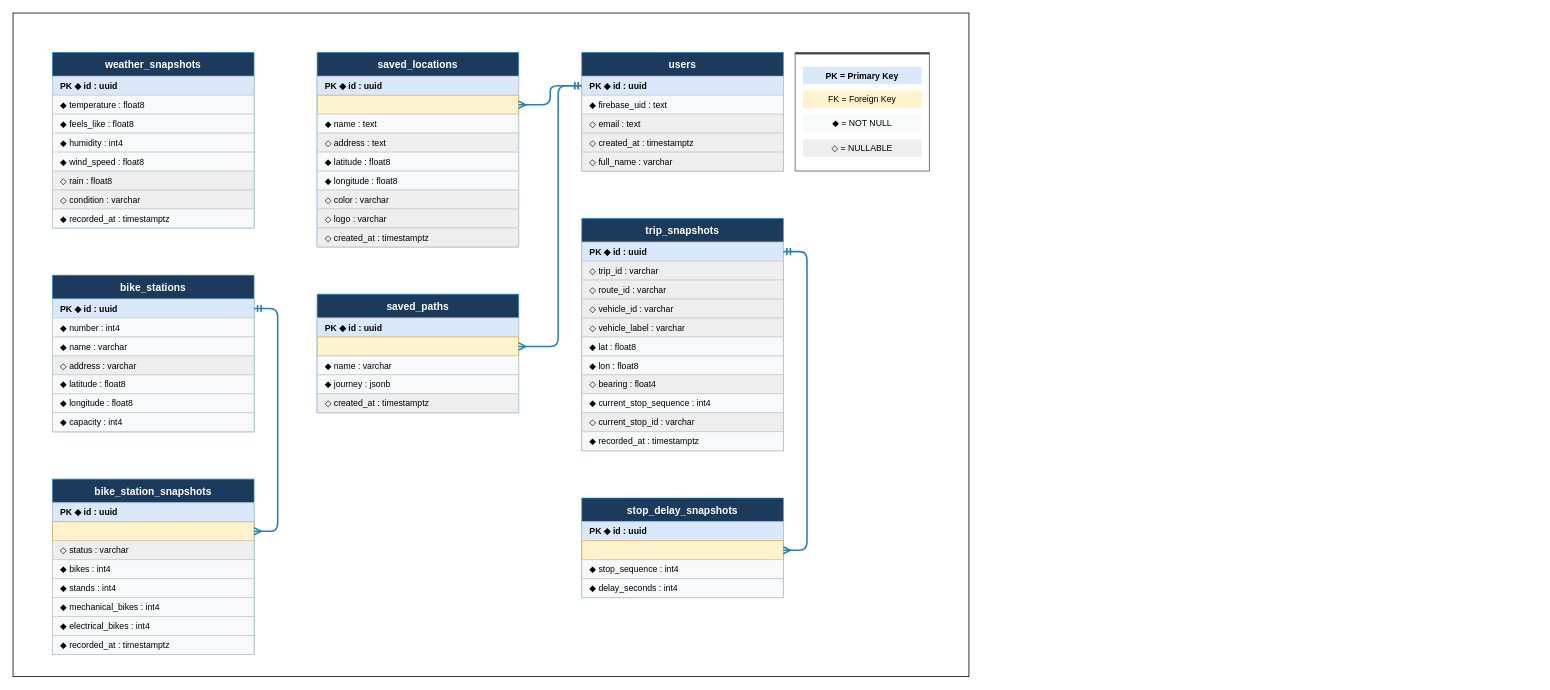
Some shapes in this 1550 by 690 pixel diagram are drawn without their labels. The shapes that lost their labels are listed below. From the top down, each one's centre as x and y in pixels, then its label:
At pixel 417 104: "FK ◇ user_id : uuid".
At pixel 417 346: "FK ◆ user_id : uuid".
At pixel 153 531: "FK ◆ station_id : uuid".
At pixel 682 550: "FK ◆ trip_snapshot_id : uuid".
